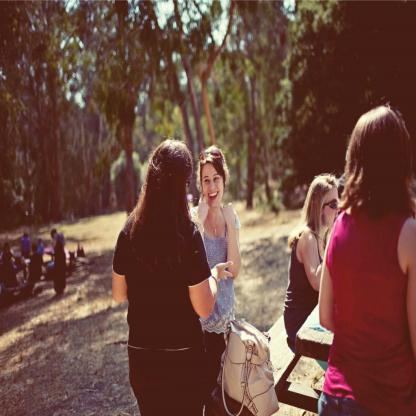face: (203, 168, 224, 209), (325, 192, 339, 230)
